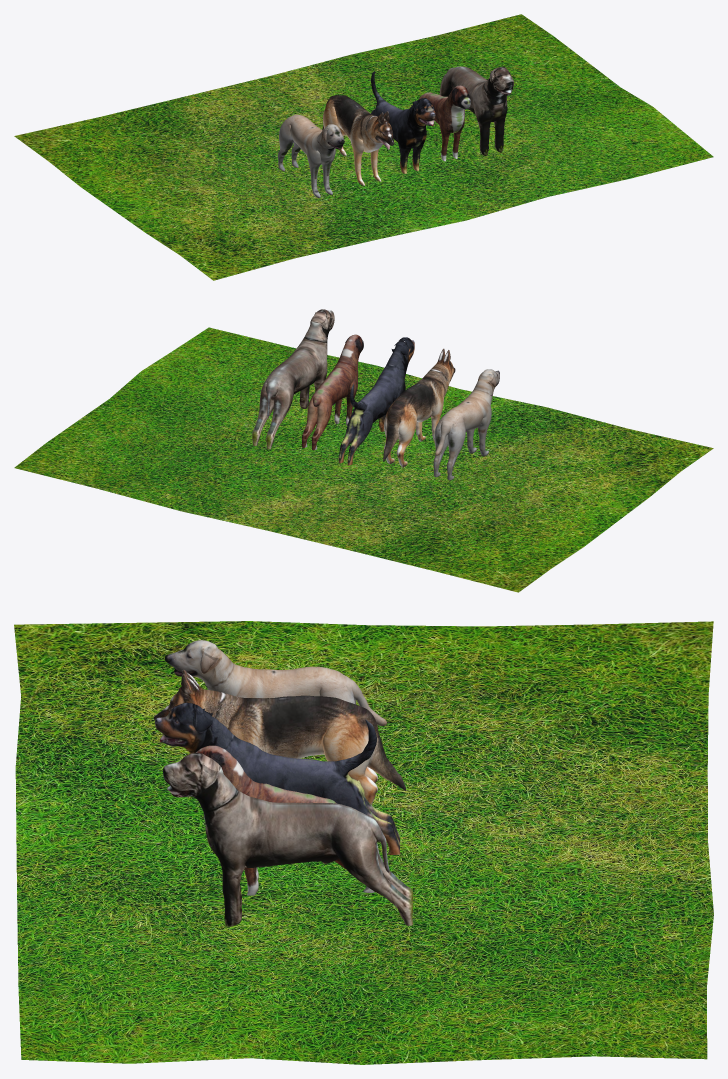
Rendered from perros_fondo.glb.
The picture shows the model from 3 angles, top to bottom: view 1: azimuth 30°, elevation 25°; view 2: azimuth 150°, elevation 25°; view 3: azimuth 270°, elevation 25°; orthographic projection. The views are drawn at different scales.
Visible parts, largest first — view 1: grass-g2dbd5d517_1920_7, Great Dane_4, German Shepherd_1, Labrador_0, Rottweiler_2, Boxer_3; view 2: grass-g2dbd5d517_1920_7, Great Dane_4, German Shepherd_1, Labrador_0, Rottweiler_2, Boxer_3; view 3: grass-g2dbd5d517_1920_7, Great Dane_4, German Shepherd_1, Rottweiler_2, Labrador_0, Boxer_3.
Part boxes in pixels (bbox=[...]): grass-g2dbd5d517_1920_7: bbox=[14, 14, 713, 280]; Great Dane_4: bbox=[439, 66, 514, 156]; German Shepherd_1: bbox=[322, 95, 394, 185]; Labrador_0: bbox=[278, 114, 344, 198]; Rottweiler_2: bbox=[371, 71, 435, 173]; Boxer_3: bbox=[419, 85, 470, 161]; grass-g2dbd5d517_1920_7: bbox=[14, 327, 713, 592]; Great Dane_4: bbox=[252, 309, 334, 449]; German Shepherd_1: bbox=[383, 348, 455, 467]; Labrador_0: bbox=[433, 369, 499, 480]; Rottweiler_2: bbox=[338, 337, 414, 465]; Boxer_3: bbox=[302, 334, 363, 450]; grass-g2dbd5d517_1920_7: bbox=[14, 621, 713, 1064]; Great Dane_4: bbox=[163, 753, 413, 926]; German Shepherd_1: bbox=[153, 669, 405, 804]; Rottweiler_2: bbox=[155, 702, 400, 854]; Labrador_0: bbox=[164, 640, 386, 725]; Boxer_3: bbox=[195, 745, 375, 895].
Bounding box in the file's own units: 33.38 × 6.04 × 22.45.
Materials: 6 (6 with a texture image).
